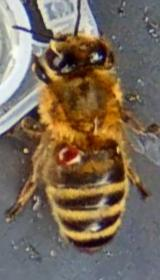varroa_mite: (41, 141, 96, 171)
